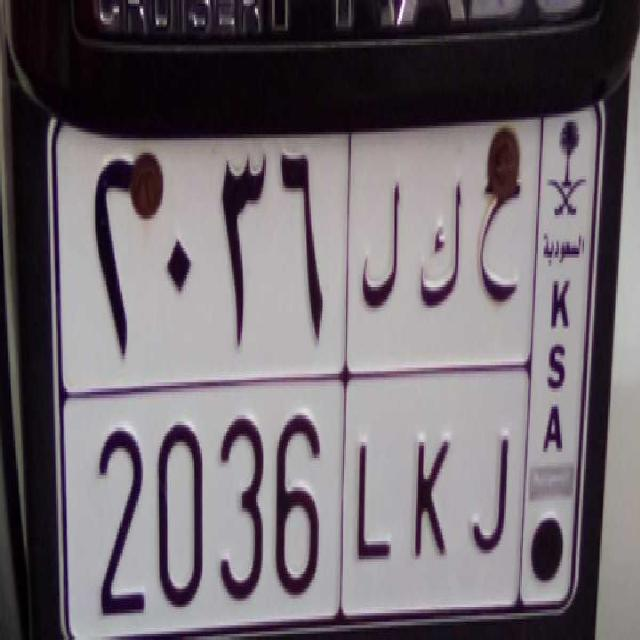license_plate: (74, 387, 518, 640)
